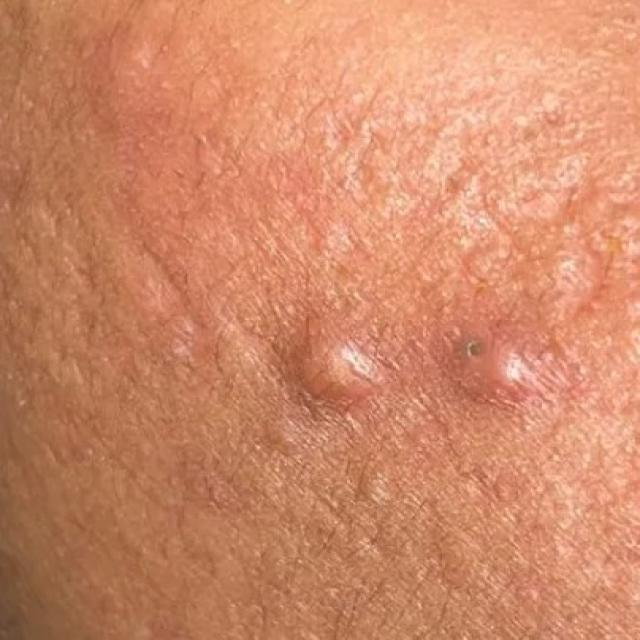blackhead: (470, 343, 481, 354)
nodule: (294, 330, 381, 411), (458, 334, 530, 402)
